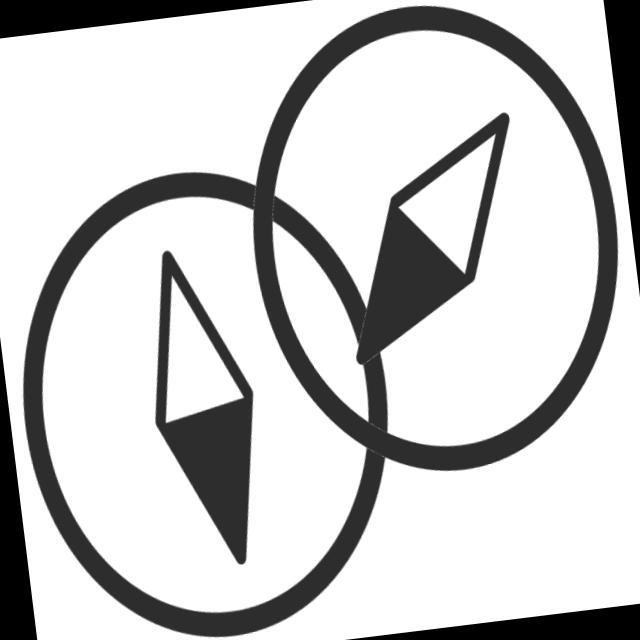compass: (1, 130, 421, 640), (219, 1, 640, 508)
